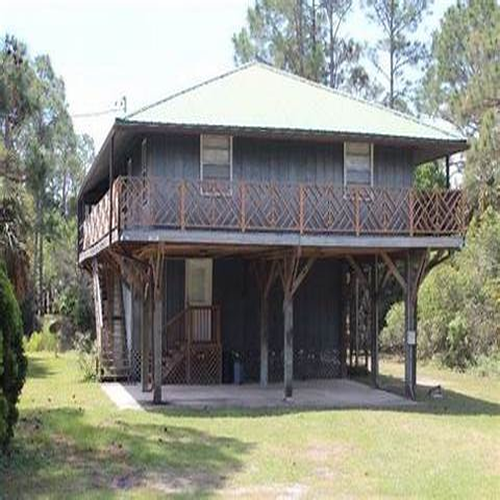Tin-shade House: (72, 69, 465, 372)
